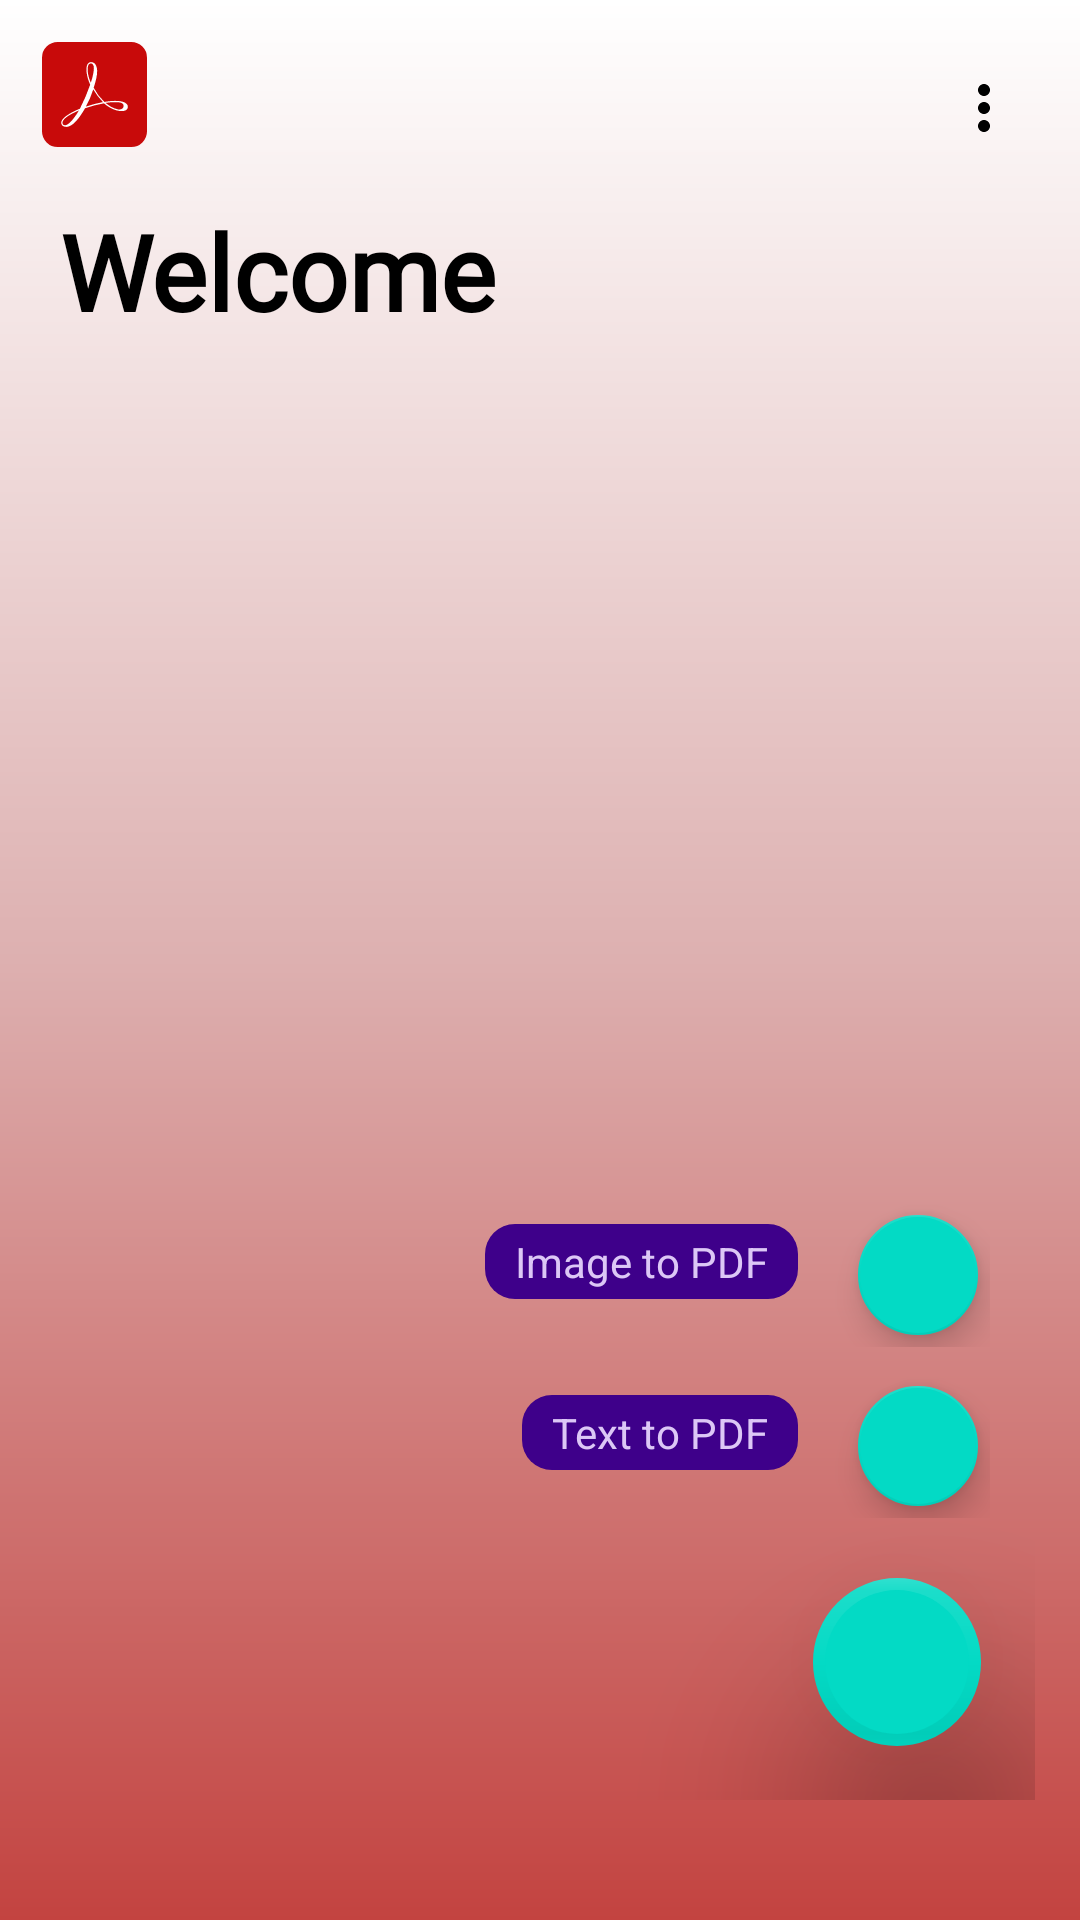

Where to tap for icons on this 1080px x 1920px app screen, as (x,y):
more vert: (984,108)
